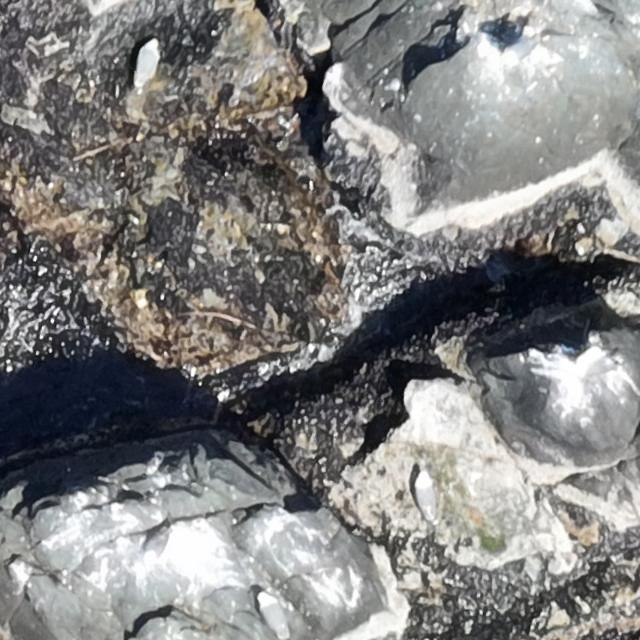umineko: (480, 13, 518, 58), (256, 588, 290, 638), (412, 469, 440, 526), (134, 35, 160, 90), (580, 348, 620, 382), (143, 524, 175, 565), (508, 34, 552, 61)
